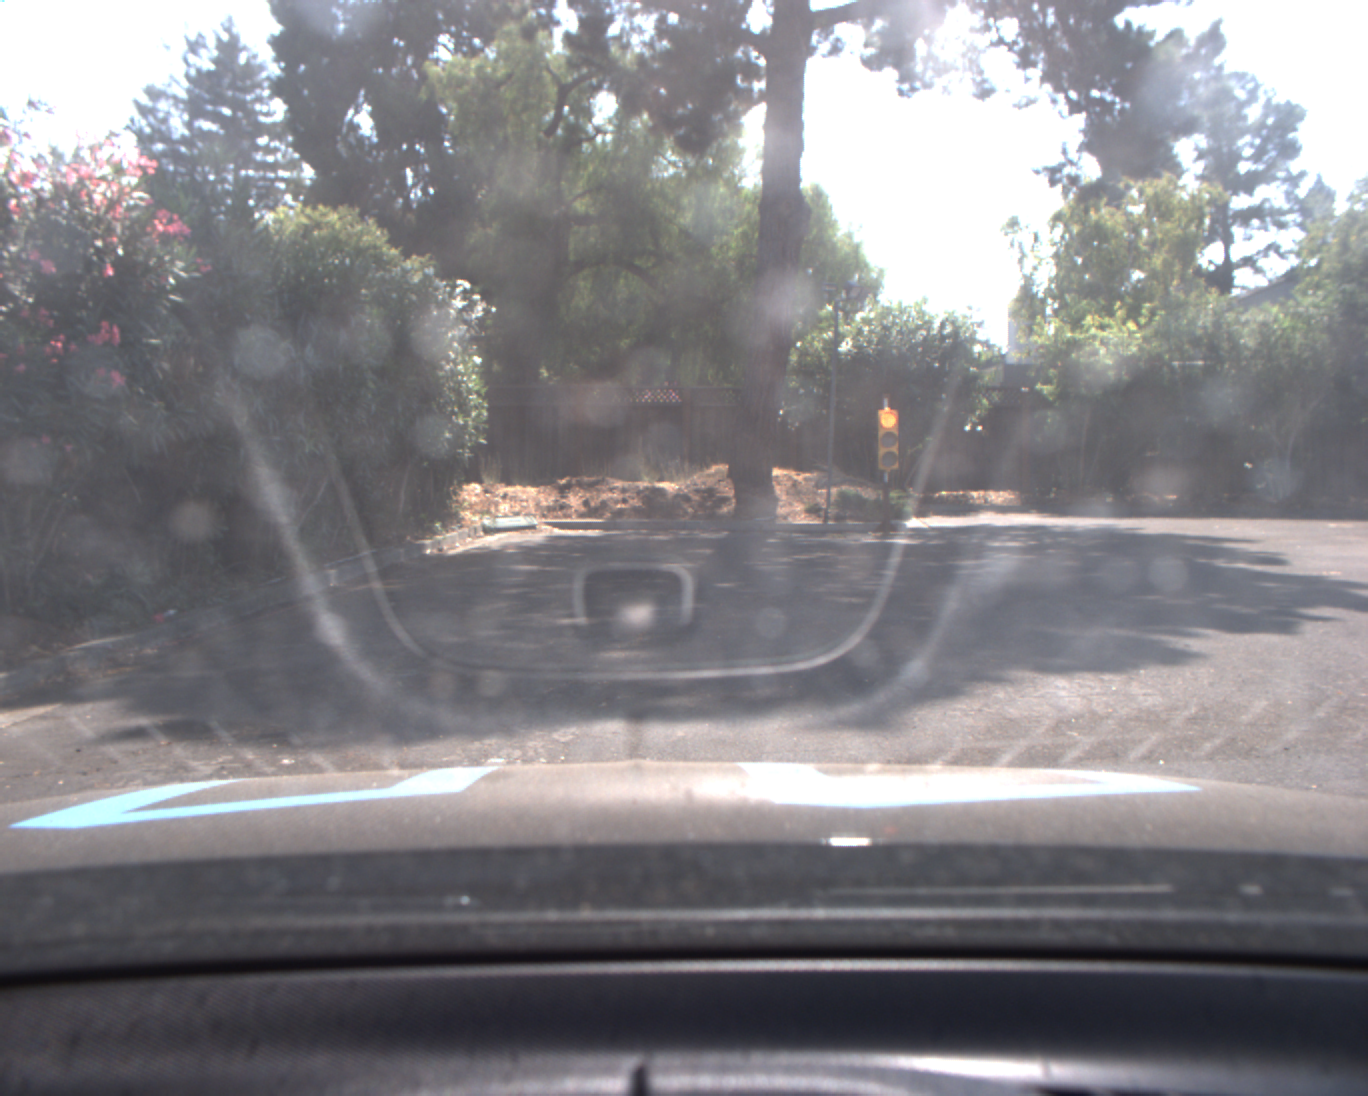red: (879, 406, 899, 472)
